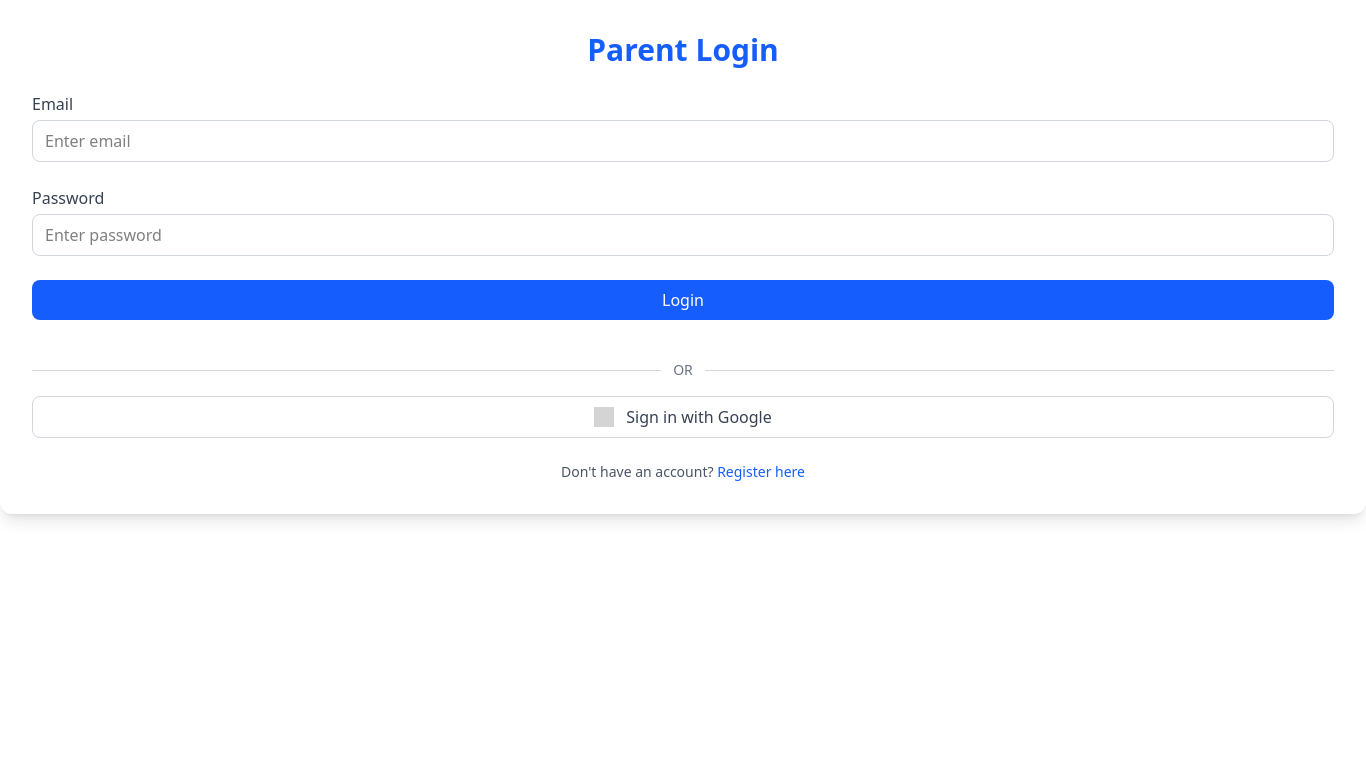
Test: ParentLogin › validates password length
Type "a@b.com" into the field with placeholder "Enter email".
click(683, 141); type("a@b.com")  # box [32,120,1334,162]
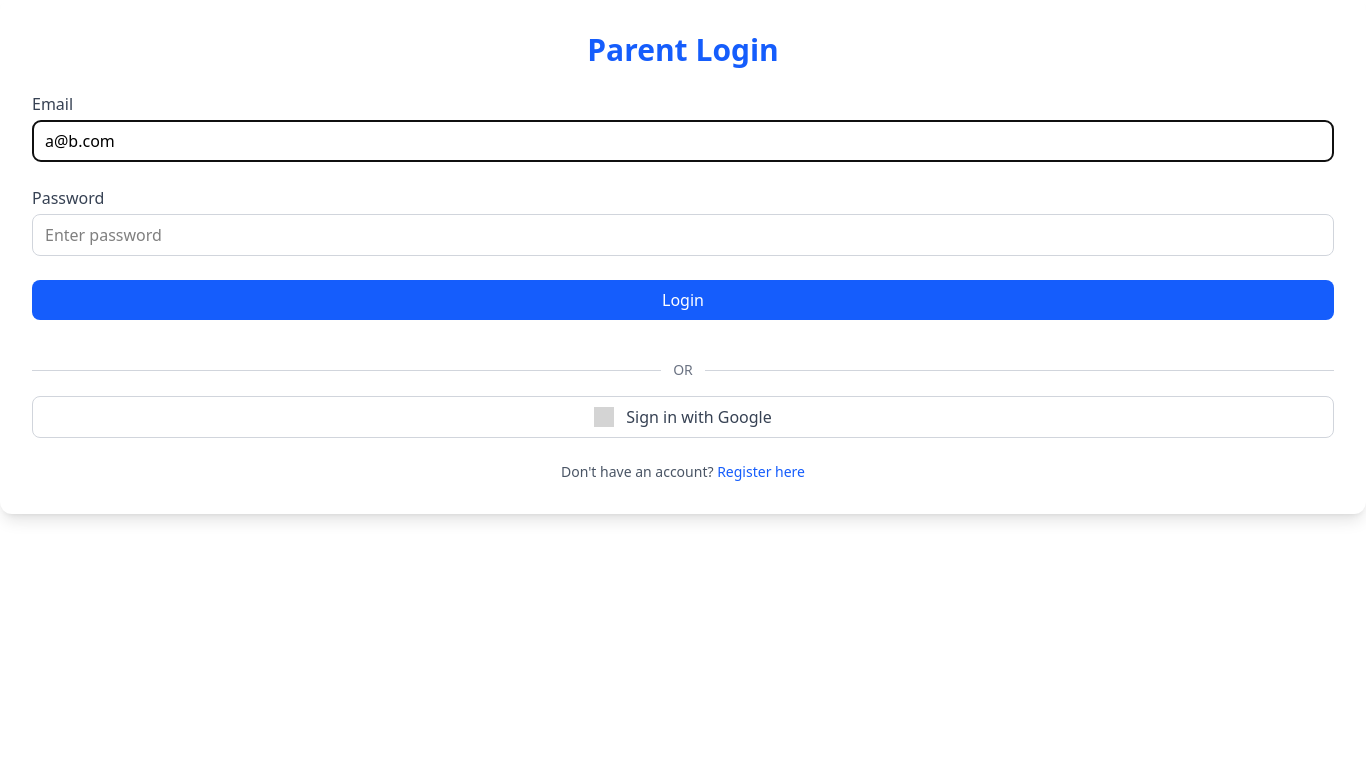
Type "123" into the password field with placeholder "Enter password".
click(683, 235); type("123")  # box [32,214,1334,256]
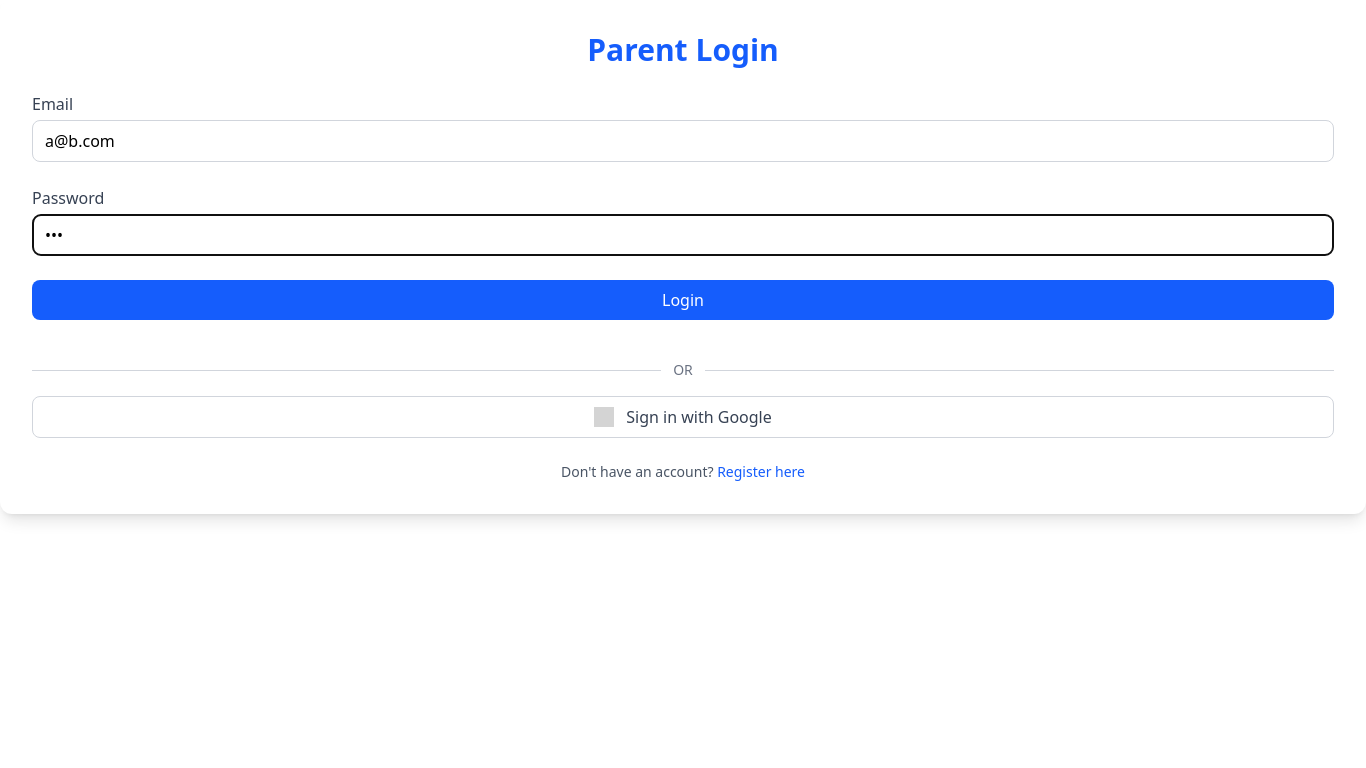
Click the button "Login".
click(683, 300)  # box [32,280,1334,320]
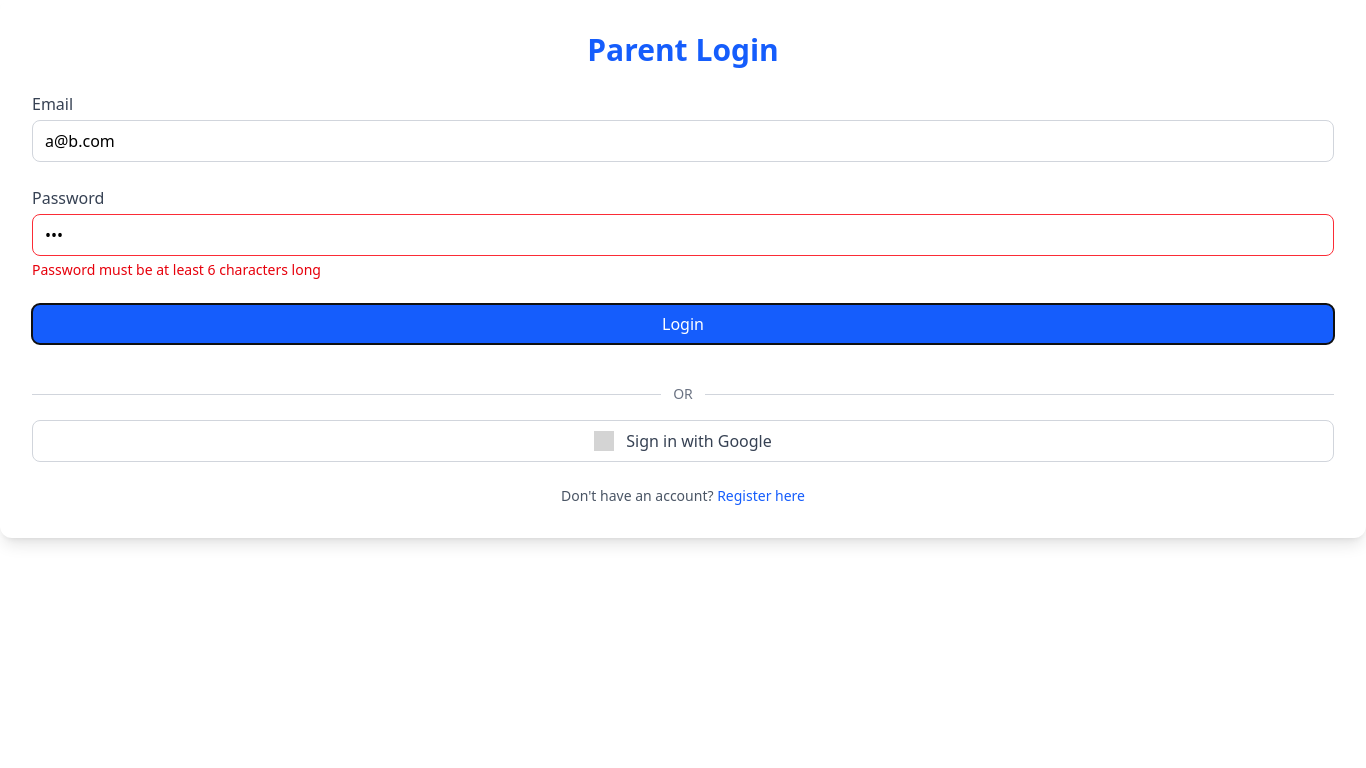
Now the text "Password must be at least 6 characters long" is shown, box [32,260,321,279]
